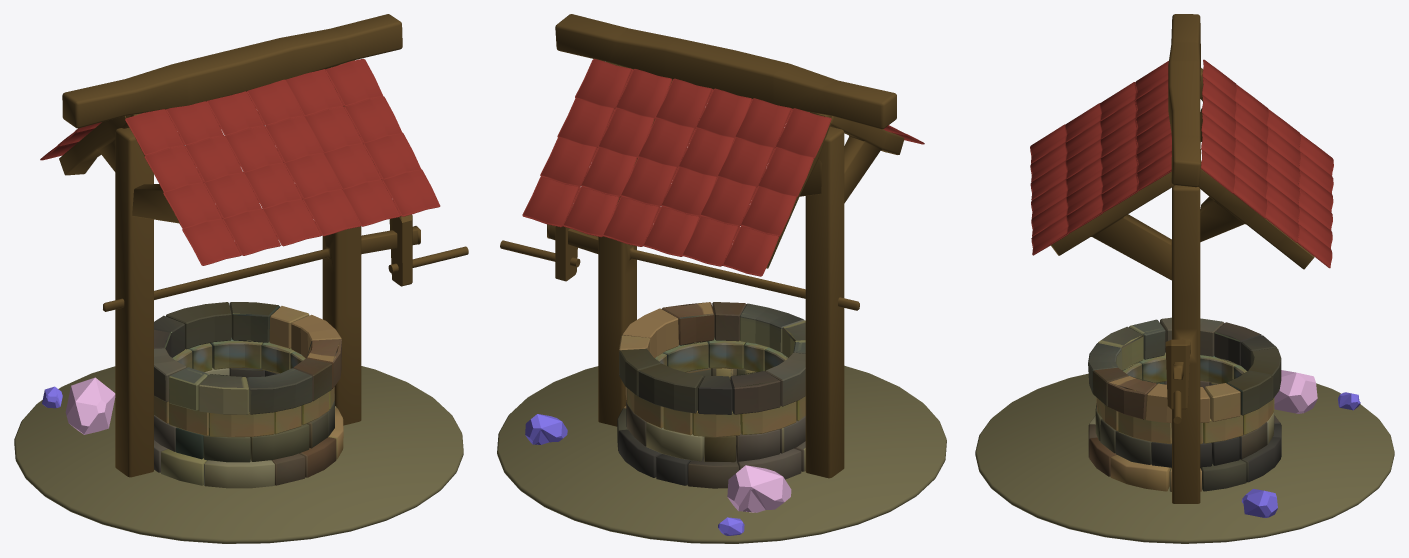
3 renders of one model, left to right at view 1: azimuth 30°, elevation 25°; view 2: azimuth 150°, elevation 25°; view 3: azimuth 270°, elevation 25°, orthographic. The views are drawn at different scales.
Parts seen in each view (by area): view 1: wooden_part, roof_tile_1, Circle, Cube.003, Cube.002, Cube, Cube.001, Rock.003, roof_tile_2; view 2: roof_tile_2, wooden_part, Circle, Cube.003, Cube.002, Cube.001, Cube, Rock.003, Rock.002; view 3: Circle, wooden_part, roof_tile_1, roof_tile_2, Cube.003, Cube.002, Cube, Cube.001, Rock.003, Rock.002.
Boxes of the visible parts, x1,y1,x2,y2 form: wooden_part: [59, 14, 468, 477]; roof_tile_1: [125, 58, 440, 265]; Circle: [14, 366, 463, 543]; Cube.003: [154, 302, 341, 414]; Cube.002: [154, 338, 334, 437]; Cube: [154, 406, 343, 488]; Cube.001: [154, 368, 334, 462]; Rock.003: [65, 377, 115, 434]; roof_tile_2: [40, 122, 101, 160]; roof_tile_2: [522, 58, 831, 276]; wooden_part: [500, 14, 904, 478]; Circle: [497, 365, 946, 543]; Cube.003: [619, 302, 805, 414]; Cube.002: [625, 338, 805, 437]; Cube.001: [626, 367, 805, 462]; Cube: [617, 406, 805, 488]; Rock.003: [727, 465, 791, 512]; Rock.002: [525, 414, 567, 444]; Circle: [975, 373, 1394, 543]; wooden_part: [1051, 14, 1314, 503]; roof_tile_1: [1030, 61, 1171, 255]; roof_tile_2: [1201, 59, 1333, 268]; Cube.003: [1088, 317, 1281, 422]; Cube.002: [1096, 352, 1274, 444]; Cube: [1088, 415, 1281, 491]; Cube.001: [1095, 381, 1274, 467]; Rock.003: [1274, 370, 1317, 413]; Rock.002: [1241, 489, 1277, 517].
Size of what is drawn, in the model's own units: 31.97 by 28.89 by 29.78.
Materials: 6 (1 with a texture image).
